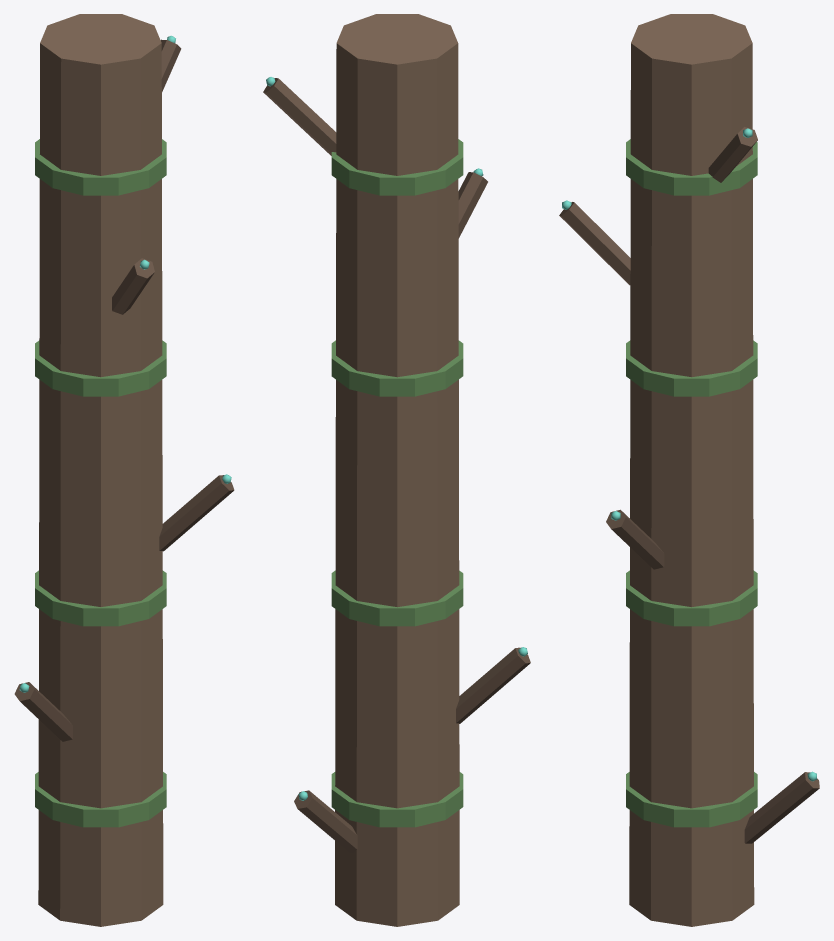
Rendered from rn2-floresta-truss.glb.
3 renders of one model, left to right at view 1: azimuth 30°, elevation 25°; view 2: azimuth 150°, elevation 25°; view 3: azimuth 270°, elevation 25°, orthographic.
Parts seen in each view (by area): view 1: rn2_floresta_truss_body; view 2: rn2_floresta_truss_body; view 3: rn2_floresta_truss_body.
Boxes of the visible parts, x1,y1,x2,y2 form: rn2_floresta_truss_body: (14, 14, 234, 926); rn2_floresta_truss_body: (263, 14, 530, 926); rn2_floresta_truss_body: (559, 14, 819, 926).
Bounding box in the file's own units: 3.1 × 12 × 3.29.
